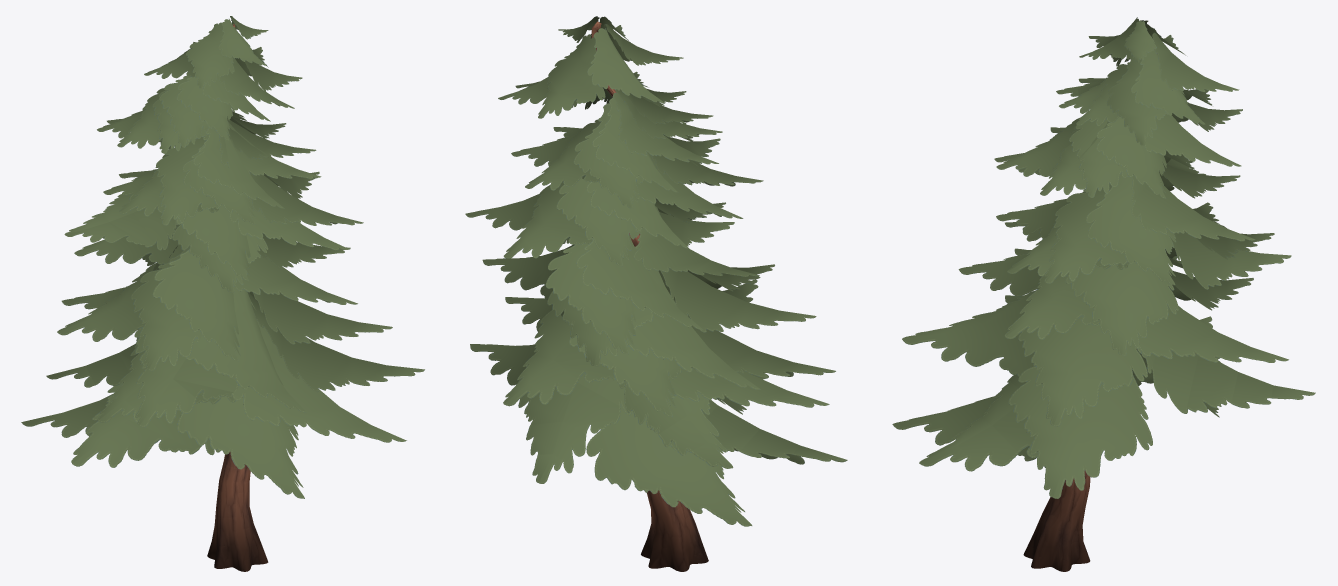
The model's file is pinew5.glb.
3 renders of one model, left to right at view 1: azimuth 30°, elevation 25°; view 2: azimuth 150°, elevation 25°; view 3: azimuth 270°, elevation 25°, orthographic. The views are drawn at different scales.
Parts seen in each view (by area): view 1: Pine_5; view 2: Pine_5; view 3: Pine_5.
Part boxes in pixels (<box>): Pine_5: <box>21,16,424,571</box>; Pine_5: <box>465,16,847,571</box>; Pine_5: <box>892,17,1315,571</box>.
Bounding box in the file's own units: 6.42 × 8.72 × 6.22.
2 materials, 2 textured.
